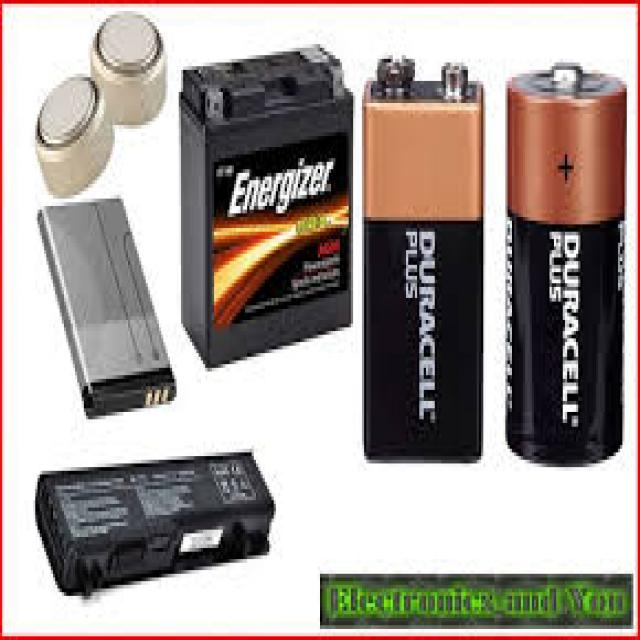non-organic waste: (181, 42, 352, 376), (364, 47, 484, 465), (508, 64, 624, 463), (35, 449, 277, 602), (29, 200, 177, 416)
